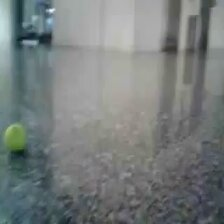tennis: (4, 124, 25, 151)
